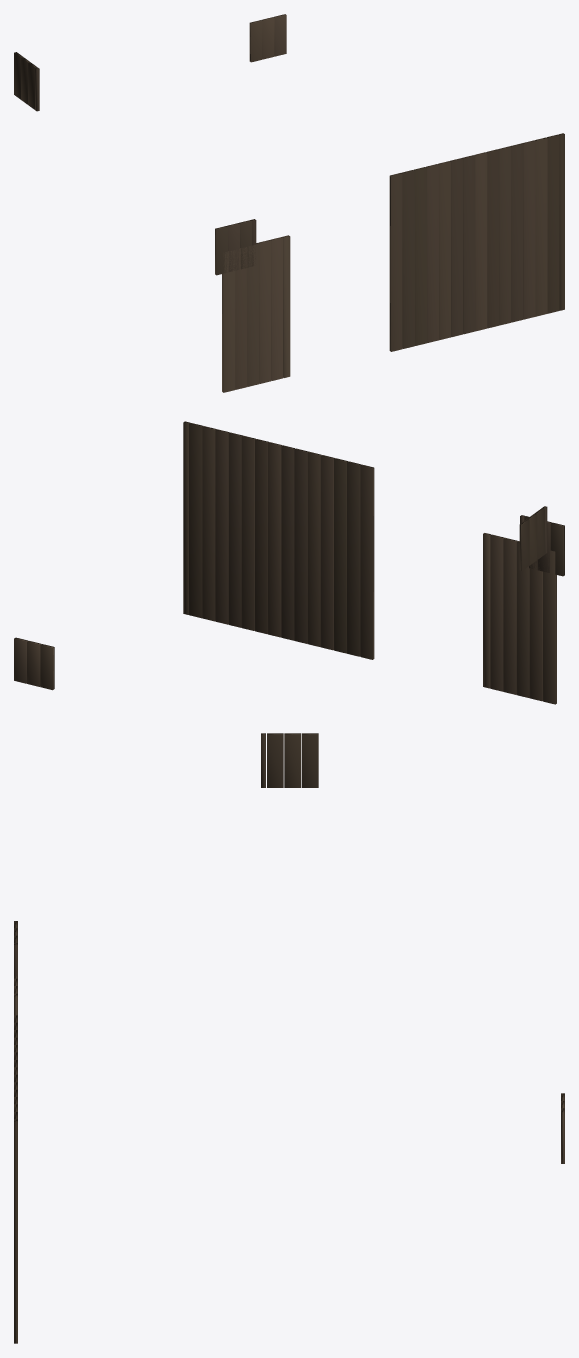
Rendered from SM_BarnWood_08.glb.
3 renders of one model, top to bottom at view 1: azimuth 30°, elevation 25°; view 2: azimuth 150°, elevation 25°; view 3: azimuth 270°, elevation 25°, orthographic. The views are drawn at different scales.
Parts seen in each view (by area): view 1: SM_BarnWood_08; view 2: SM_BarnWood_08; view 3: SM_BarnWood_08.
Part boxes in pixels (x1=…): SM_BarnWood_08: x1=14, y1=14, x2=564, y2=392; SM_BarnWood_08: x1=14, y1=421, x2=564, y2=704; SM_BarnWood_08: x1=14, y1=733, x2=564, y2=1343.
Size of the model in its own units: 6.42 by 3.9 by 5.64.
